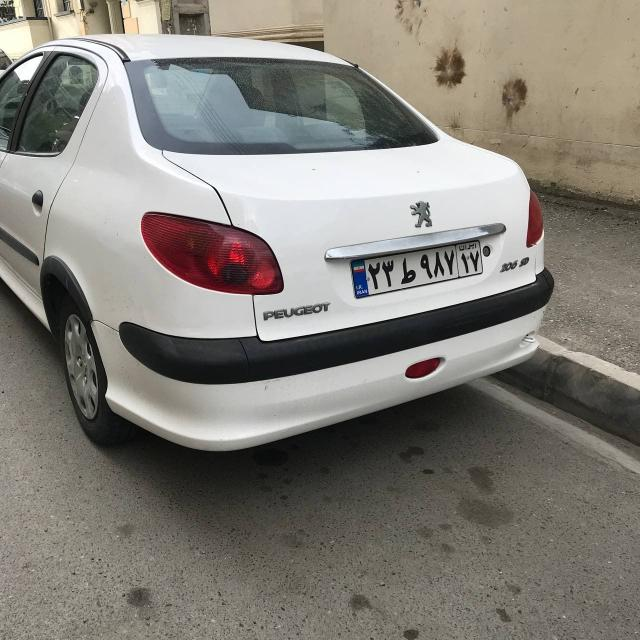Plates: (348, 235, 485, 298)
